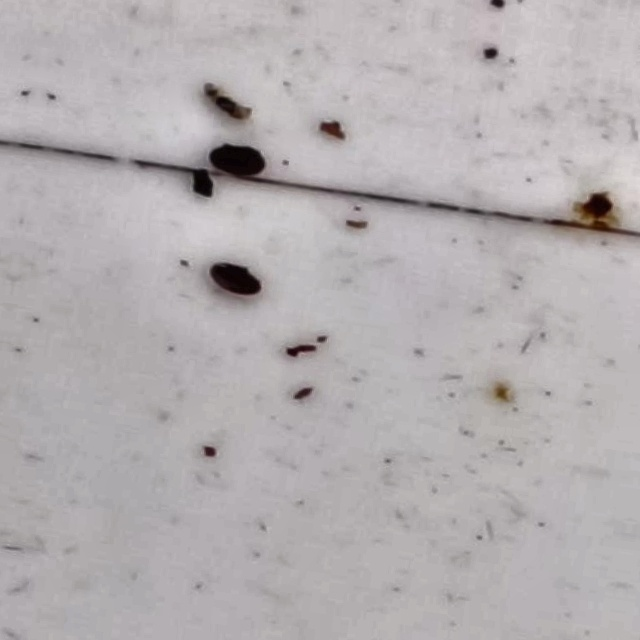varroa: (207, 140, 268, 179), (209, 261, 264, 300)
